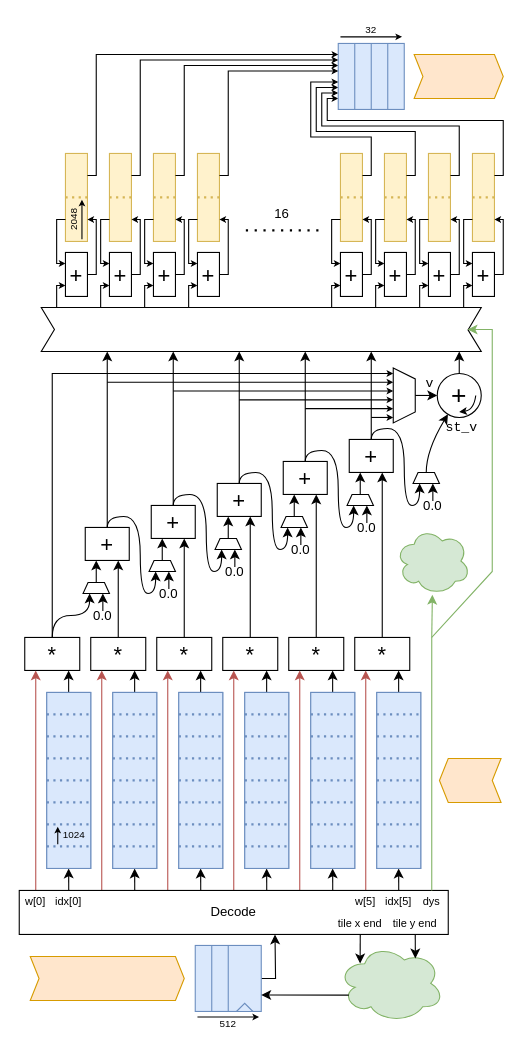
The diagram is 528 pixels wide and 1054 high, and some of its shapes have lost their labels. The centre of each missing label's shape, as x and y in pixels:
"256 bit HBM matrix data" belongs at (106,977).
"512 bit x tiles" belongs at (469,779).
"512 bit y results" belongs at (458,75).
"ctrl" belongs at (432,560).
"flow ctrl" belongs at (390,982).
"Router" belongs at (260,328).
